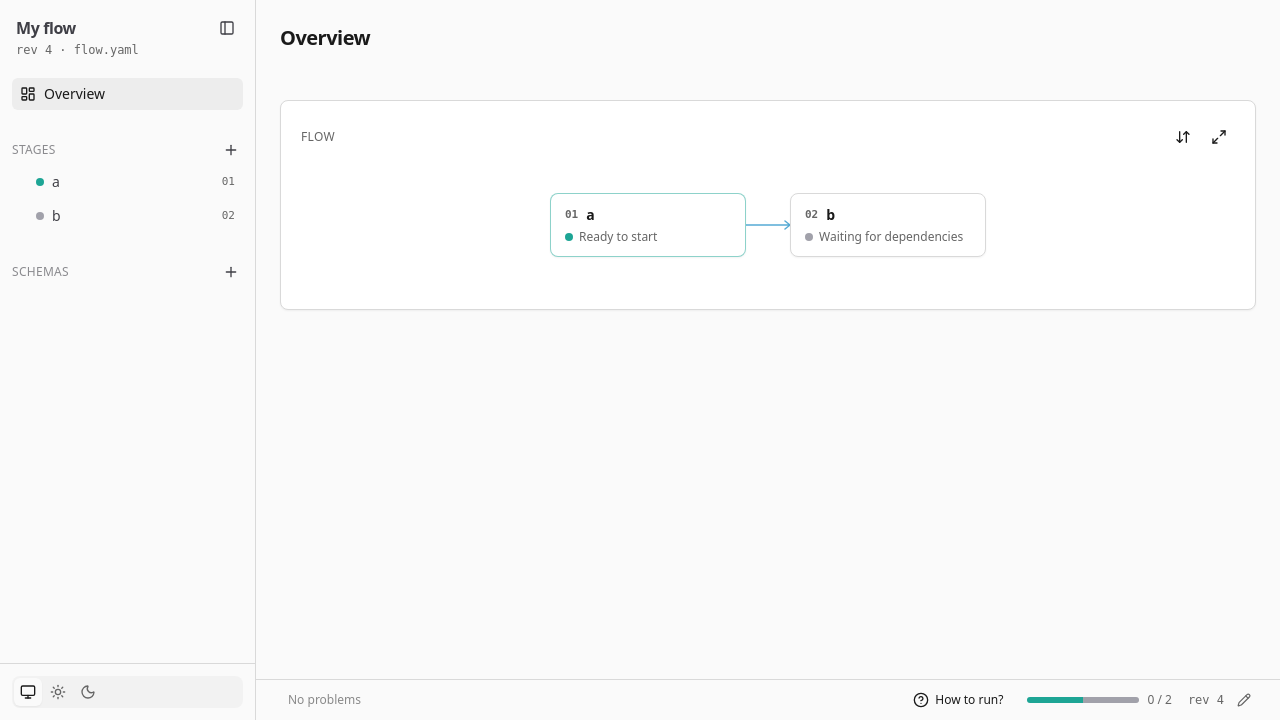
inline editing › flow_name_is_committed_on_enter_as_one_edit
The image size is (1280, 720).
Step 1. Click the button with aria-label "Edit flow name" → (46, 28), box [12, 16, 80, 40]
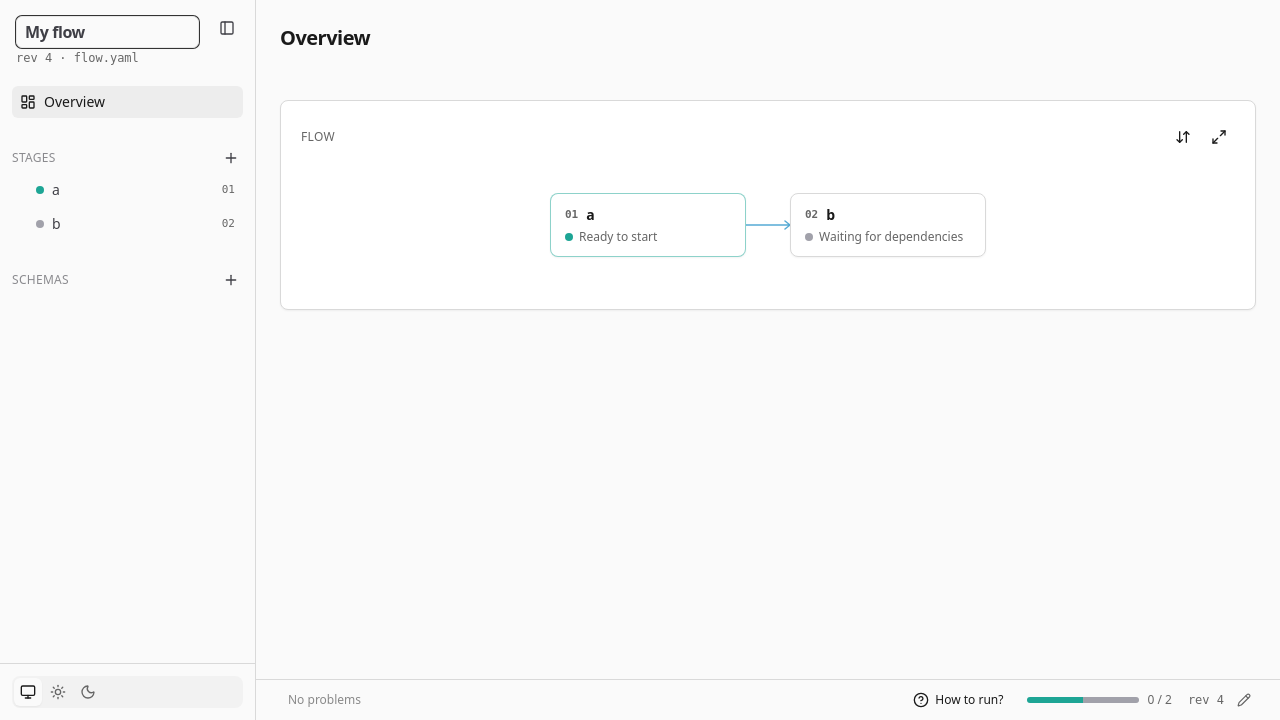
Step 2. Replace the text in the field named "Flow name" with "Renamed" → (108, 32), box [16, 16, 199, 48]
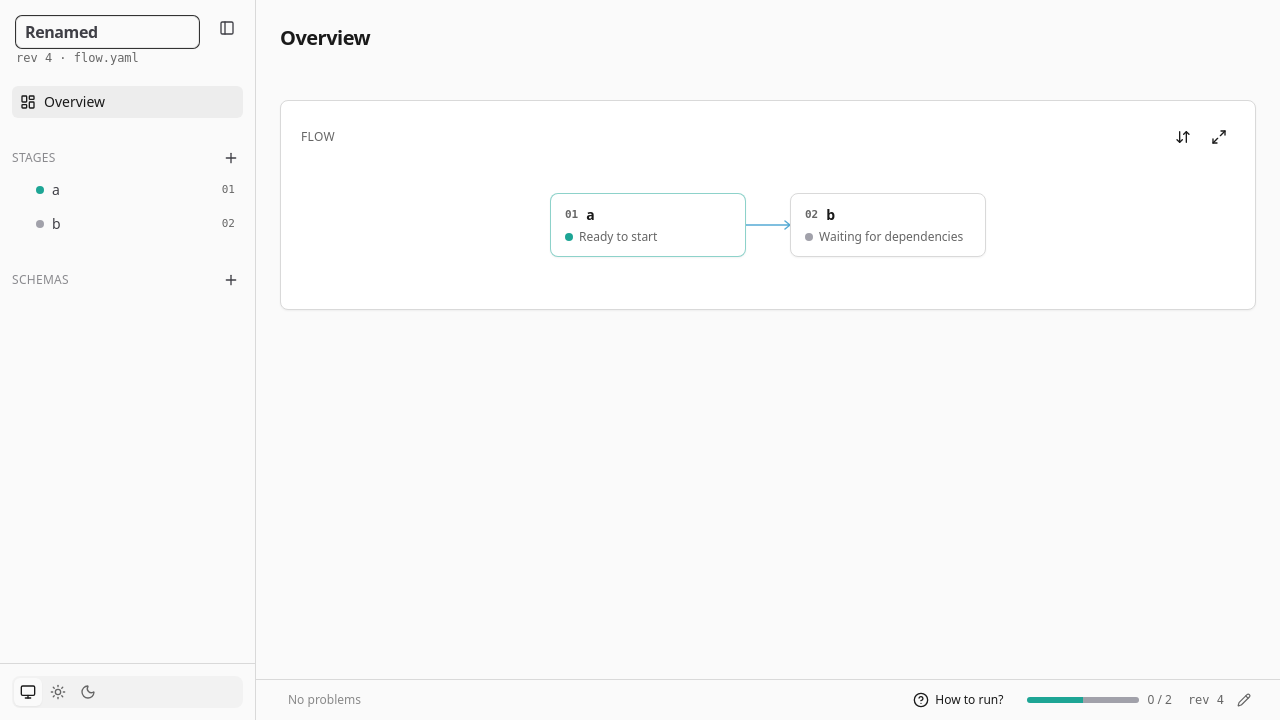
Step 3. Press Enter in the field named "Flow name", box [16, 16, 199, 48]
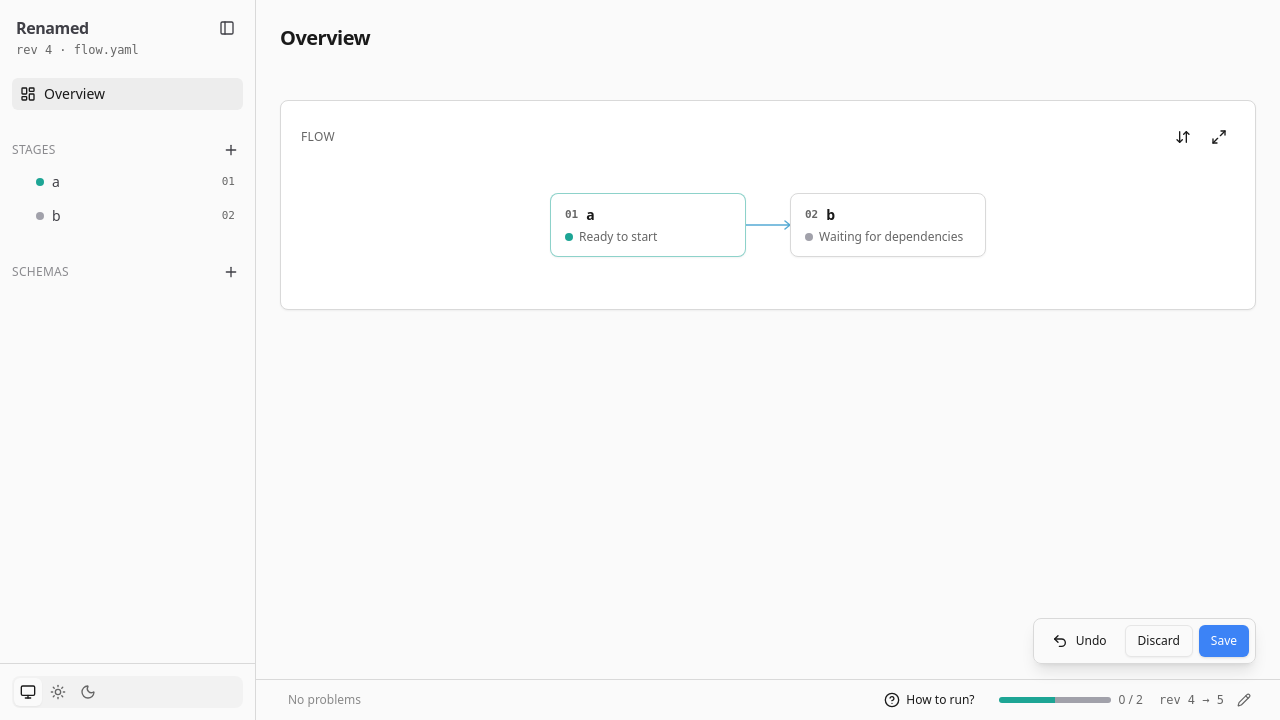
Check: the button "Renamed" is shown, box [12, 16, 93, 40]
Check: the heading "Renamed" is shown, box [12, 16, 93, 40]
